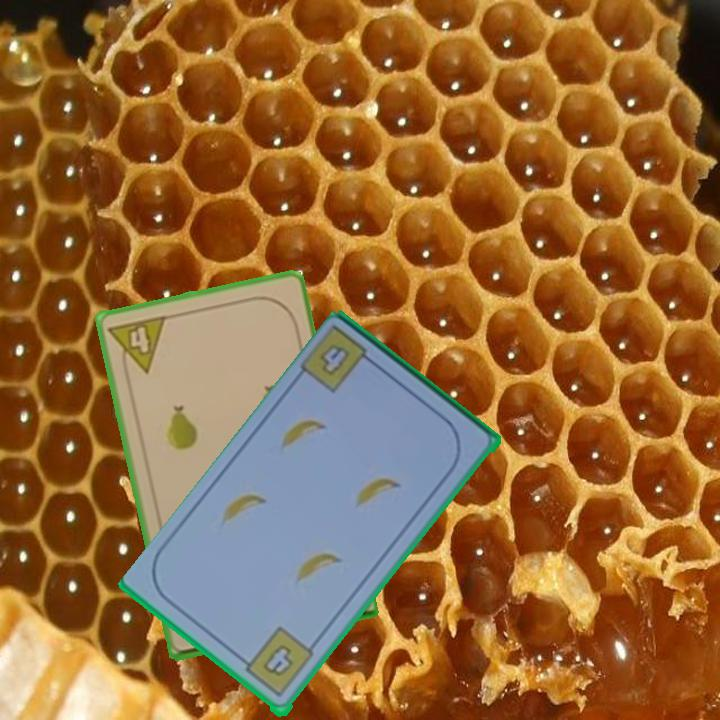4b: (298, 323, 382, 398), (236, 624, 317, 701)
4p: (105, 312, 169, 380)
